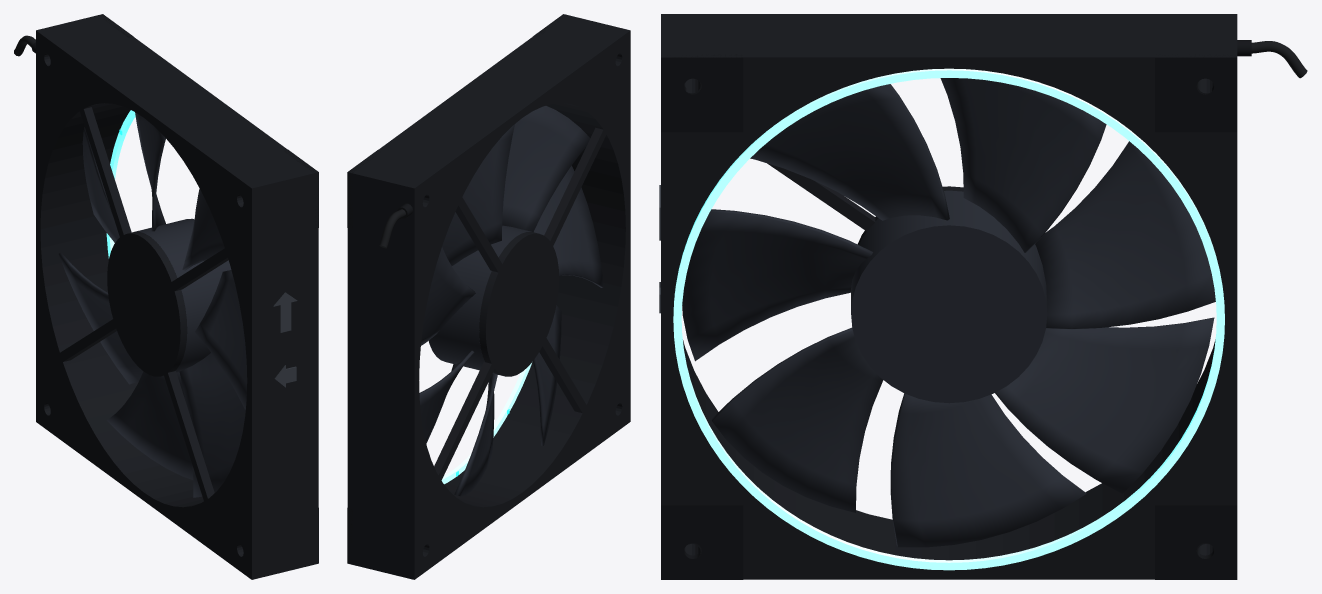
File: g_case_fan_argb.glb
The picture shows the model from 3 angles, left to right: view 1: azimuth 30°, elevation 25°; view 2: azimuth 150°, elevation 25°; view 3: azimuth 270°, elevation 25°; orthographic projection. The views are drawn at different scales.
Visible parts, largest first — view 1: part_fan, blades; view 2: part_fan, blades; view 3: blades, part_fan.
Boxes of the visible parts, <box> form: part_fan: <box>14,14,318,579</box>; blades: <box>58,112,247,497</box>; part_fan: <box>347,14,630,579</box>; blades: <box>419,106,603,496</box>; blades: <box>682,78,1215,547</box>; part_fan: <box>659,14,1307,579</box>.
Size of the model in its own units: 0.2599 by 1.4 by 1.57.
